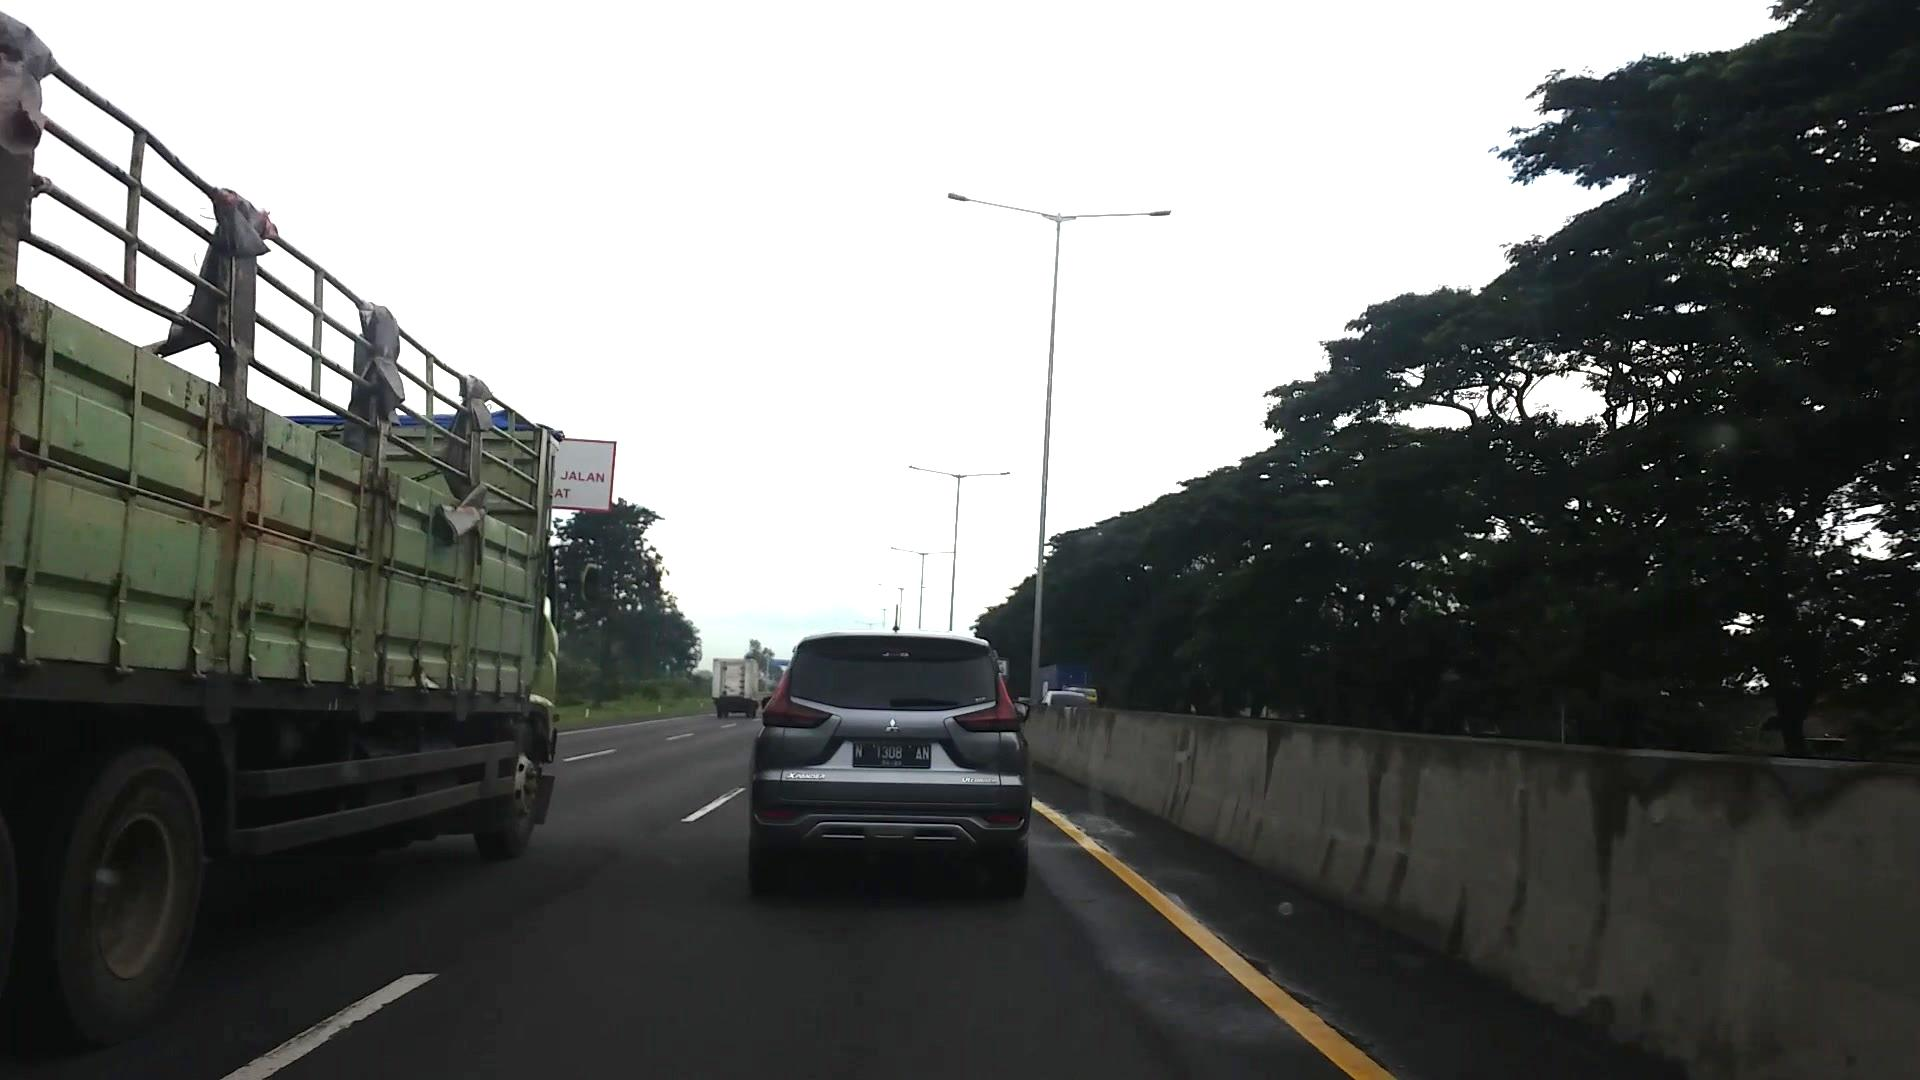plate_positive: (852, 741, 931, 770)
